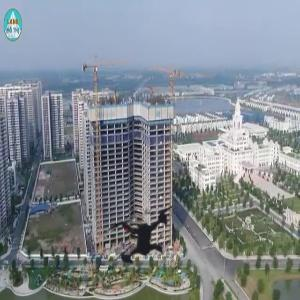drone: (81, 174, 205, 298)
